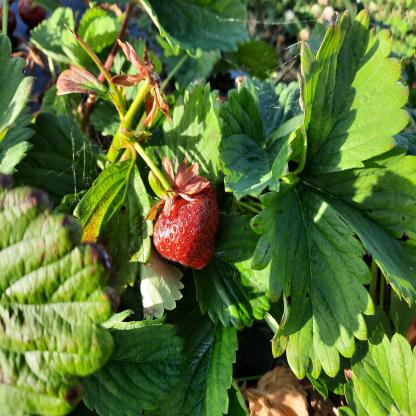ripe: (154, 175, 221, 269)
